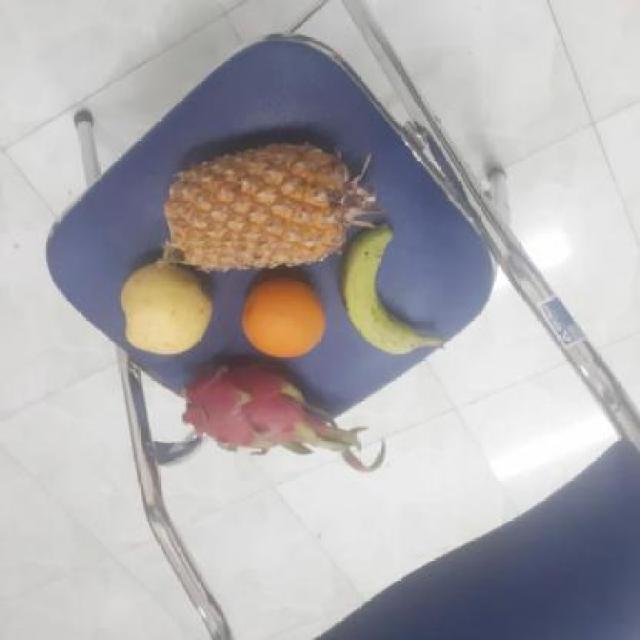banana: (340, 223, 426, 360)
dragon fruit: (184, 358, 325, 452)
oren: (236, 272, 332, 359)
pear: (115, 261, 218, 357)
pineapple: (172, 141, 360, 268)
